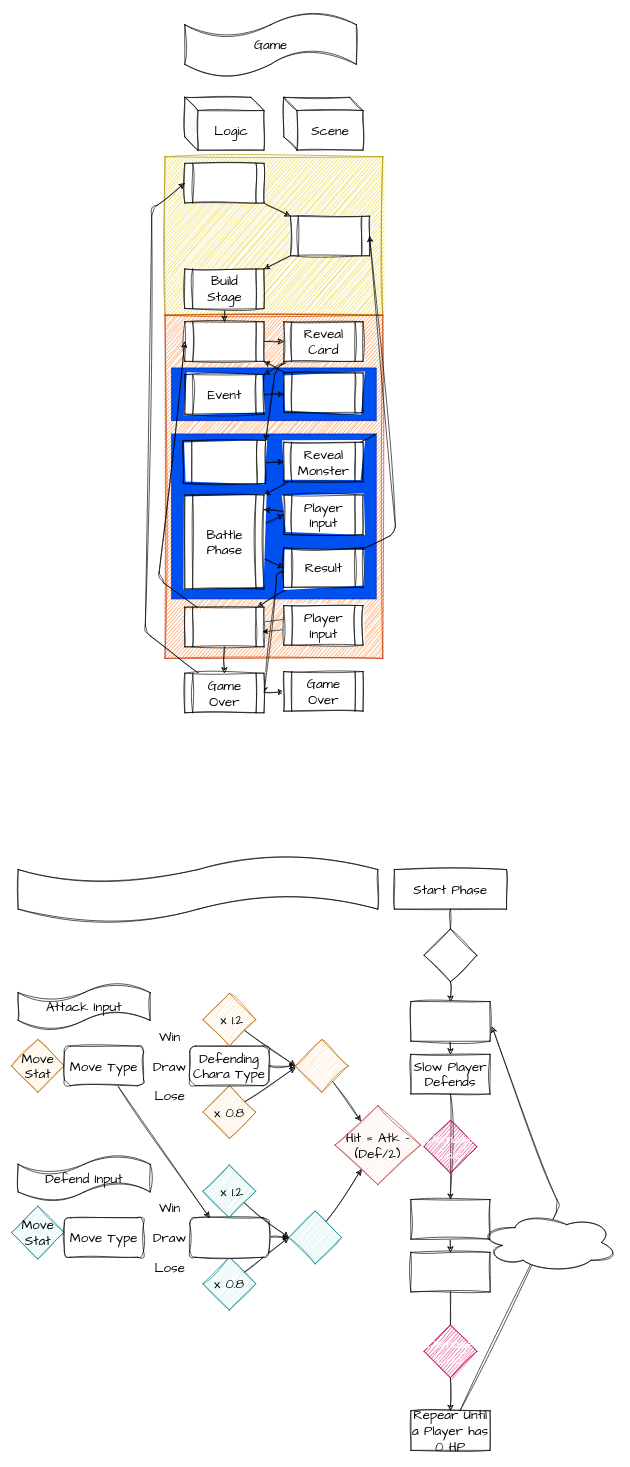
Image size: 630x1467. Some labels were removed from this diagram. Here are the shapes that lost their labels. From the top down, the box of each, then its label:
(184, 163, 264, 203): Init
(290, 215, 370, 256): Select Chara
(184, 321, 264, 361): Play Stage
(283, 372, 363, 412): Reveal Event
(182, 440, 266, 483): Monster
(184, 607, 264, 647): Camp
(17, 856, 378, 922): Battle Phse
(423, 928, 477, 982): Check speed Player1/Player2
(410, 1001, 490, 1041): Fast Player Attacks
(295, 1039, 348, 1092): Atk Stat
(189, 1217, 269, 1257): Atk Move Type
(288, 1210, 342, 1264): Def Stat
(410, 1199, 490, 1239): Slow Player Attacks
(479, 1212, 619, 1272): Eliminate for: Repeat opposite
(410, 1252, 490, 1292): Fast Player Defends
